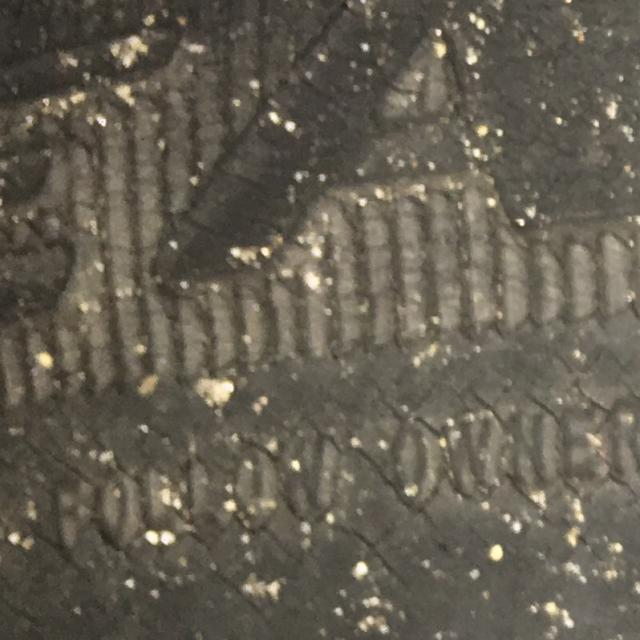Cracks: (0, 300, 639, 640)
